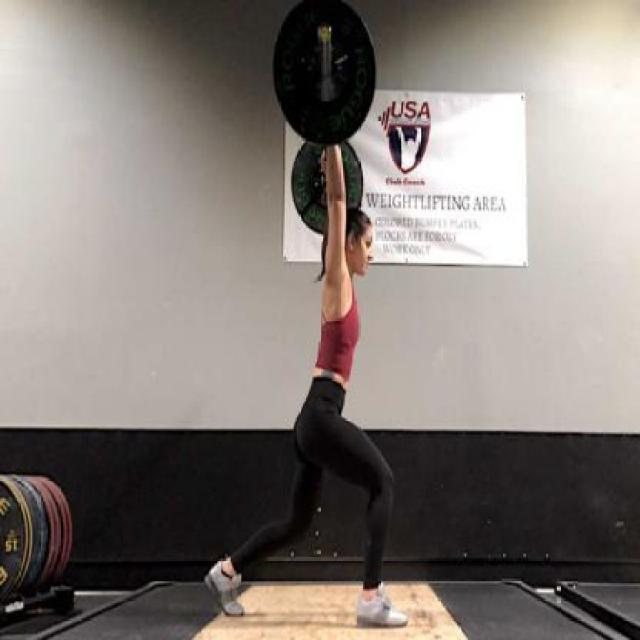barbell: (269, 1, 383, 148)
